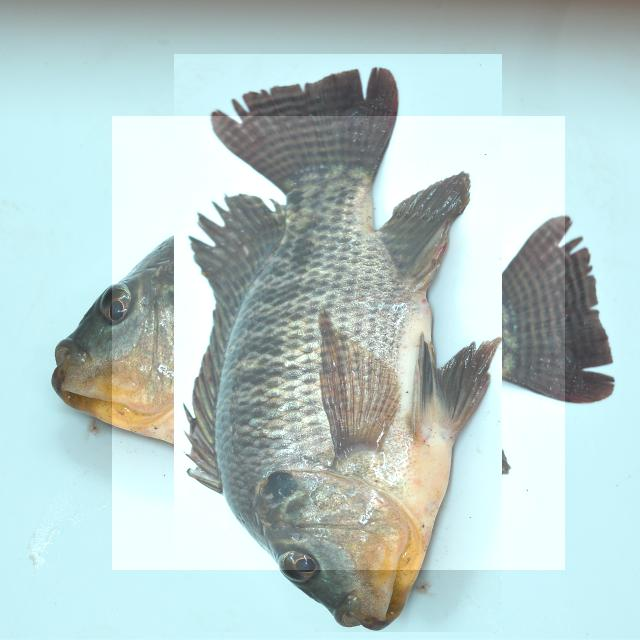Healthy Fish: (112, 116, 565, 570)
